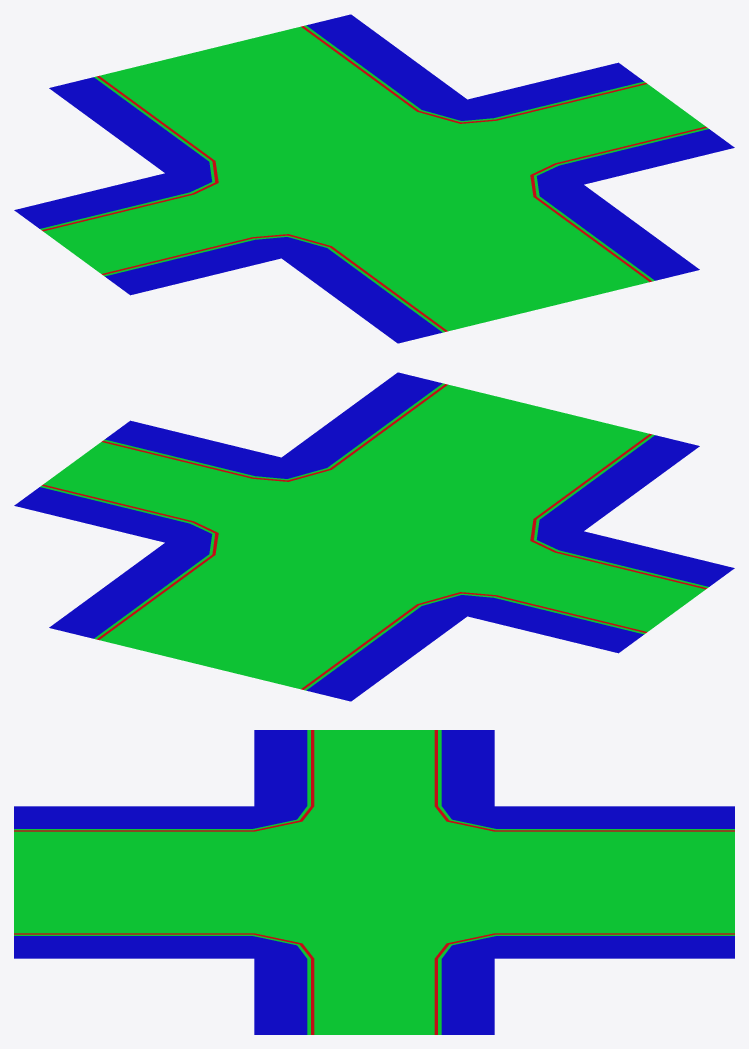
The model's file is 4way_2wide_2thin.fbx.
3 views of the same model, one above another, from view 1: azimuth 30°, elevation 25°; view 2: azimuth 150°, elevation 25°; view 3: azimuth 270°, elevation 25° (orthographic). The views are drawn at different scales.
Visible parts, largest first — view 1: Plane.071; view 2: Plane.071; view 3: Plane.071.
Boxes of the visible parts, <box> form: Plane.071: <box>14,14,734,343</box>; Plane.071: <box>14,372,734,701</box>; Plane.071: <box>14,730,734,1034</box>.
Size of the model in its own units: 1200 by 0.000196 by 1200.
